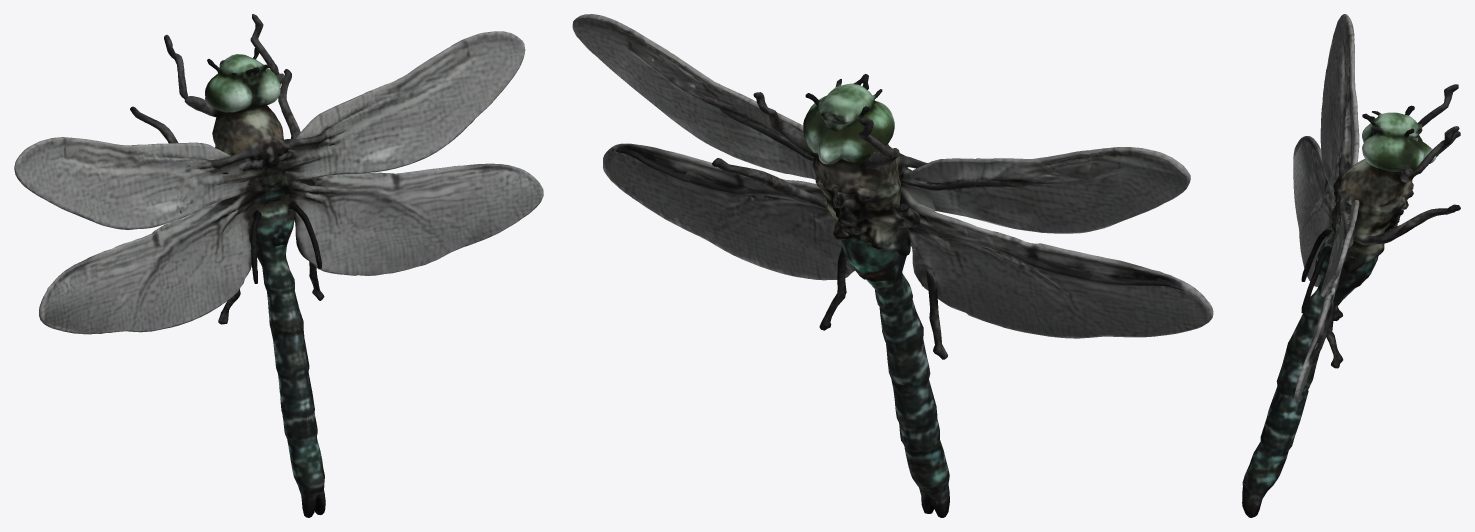
File: dragonfly-perch-v21.glb
3 views of the same model, side by side, from view 1: azimuth 30°, elevation 25°; view 2: azimuth 150°, elevation 25°; view 3: azimuth 270°, elevation 25° (orthographic). The views are drawn at different scales.
Visible parts, largest first — view 1: geometry_0; view 2: geometry_0; view 3: geometry_0.
Boxes of the visible parts, x1,y1,x2,y2 form: geometry_0: [14, 14, 543, 517]; geometry_0: [572, 14, 1213, 517]; geometry_0: [1242, 14, 1460, 517].
Bounding box in the file's own units: 0.1099 × 0.0857 × 0.0414.
Materials: 1 (1 with a texture image).
